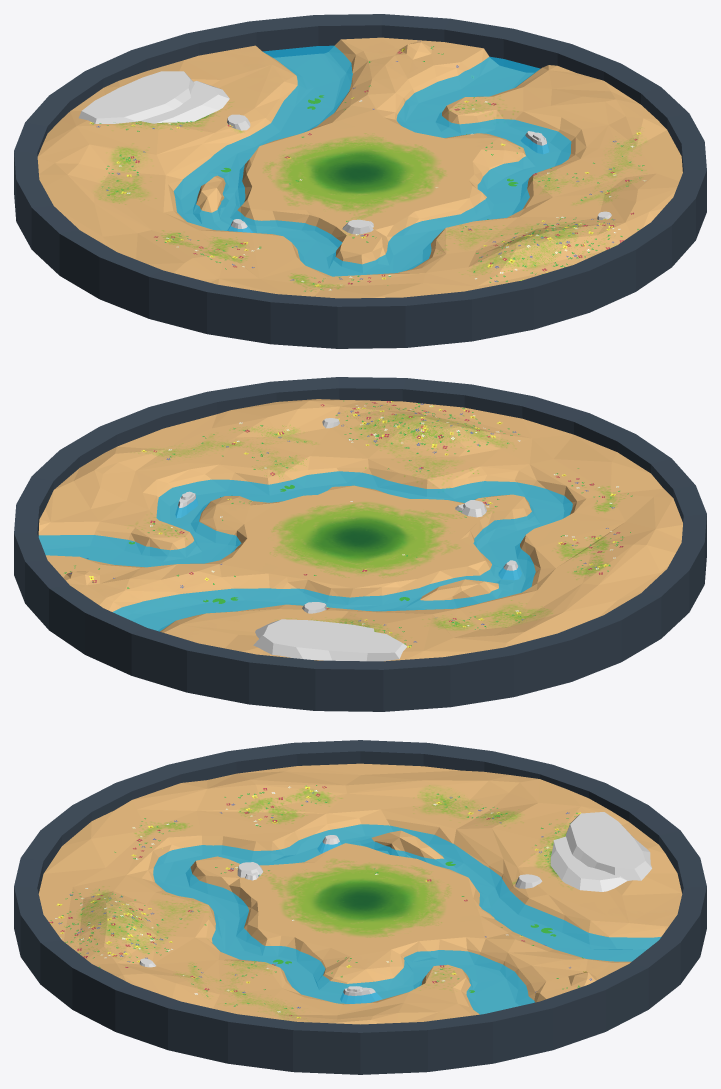
Rendered from landscape.glb.
3 renders of one model, top to bottom at view 1: azimuth 30°, elevation 25°; view 2: azimuth 150°, elevation 25°; view 3: azimuth 270°, elevation 25°, orthographic.
Visible parts, largest first — view 1: terrain, boardEdge, river, rock.005, rock.004; view 2: terrain, boardEdge, river, rock.005, rock.004; view 3: terrain, boardEdge, river, rock.005, rock.004, rock.001.
Part boxes in pixels (x1,y1,x2,y2): terrain: (37,37,682,298); boardEdge: (14,14,706,348); river: (173,45,571,276); rock.005: (78,71,194,123); rock.004: (140,81,229,123); terrain: (38,399,682,661); boardEdge: (14,377,706,711); river: (38,471,572,631); rock.005: (253,625,406,661); rock.004: (255,619,374,638); terrain: (38,763,682,1024); boardEdge: (14,740,706,1074); river: (153,824,661,1014); rock.005: (566,812,651,880); rock.004: (550,836,626,891); rock.001: (340,986,381,1003).
Size of the model in its own units: 195 by 13.03 by 195.
10 materials, 1 textured.
